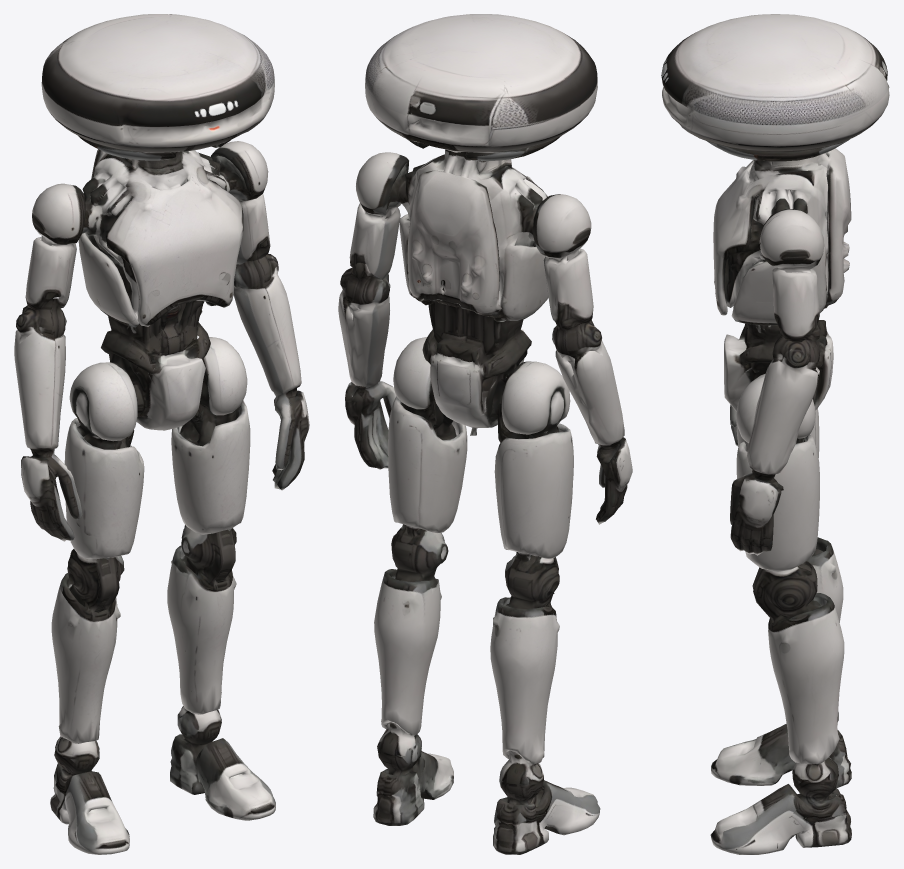
File: hello-robot.glb
3 views of the same model, side by side, from view 1: azimuth 30°, elevation 25°; view 2: azimuth 150°, elevation 25°; view 3: azimuth 270°, elevation 25° (orthographic).
Visible parts, largest first — view 1: tripo_part_0, tripo_part_1, tripo_part_3, tripo_part_2, tripo_part_4, tripo_part_6, tripo_part_5, tripo_part_7, tripo_part_8; view 2: tripo_part_1, tripo_part_0, tripo_part_3, tripo_part_2, tripo_part_4, tripo_part_5, tripo_part_6, tripo_part_7, tripo_part_8; view 3: tripo_part_3, tripo_part_2, tripo_part_0, tripo_part_4, tripo_part_7, tripo_part_1, tripo_part_8.
Part boxes in pixels (x1,y1,x2,y2): tripo_part_0: [78, 149, 243, 430]; tripo_part_1: [50, 362, 144, 854]; tripo_part_3: [41, 14, 274, 160]; tripo_part_2: [167, 400, 275, 820]; tripo_part_4: [233, 254, 309, 490]; tripo_part_6: [14, 330, 82, 541]; tripo_part_5: [16, 183, 104, 343]; tripo_part_7: [211, 141, 270, 264]; tripo_part_8: [199, 337, 247, 415]; tripo_part_1: [490, 361, 600, 854]; tripo_part_0: [399, 149, 548, 435]; tripo_part_3: [365, 14, 597, 161]; tripo_part_2: [373, 395, 467, 825]; tripo_part_4: [338, 262, 396, 469]; tripo_part_5: [528, 194, 602, 360]; tripo_part_6: [555, 340, 632, 524]; tripo_part_7: [349, 152, 408, 279]; tripo_part_8: [393, 337, 433, 409]; tripo_part_3: [661, 14, 889, 161]; tripo_part_2: [710, 434, 851, 854]; tripo_part_0: [713, 148, 851, 411]; tripo_part_4: [730, 321, 820, 555]; tripo_part_7: [759, 209, 824, 342]; tripo_part_1: [711, 408, 851, 787]; tripo_part_8: [736, 373, 815, 443].
Bounding box in the file's own units: 0.3754 × 1 × 0.2686.
11 materials, 11 textured.
